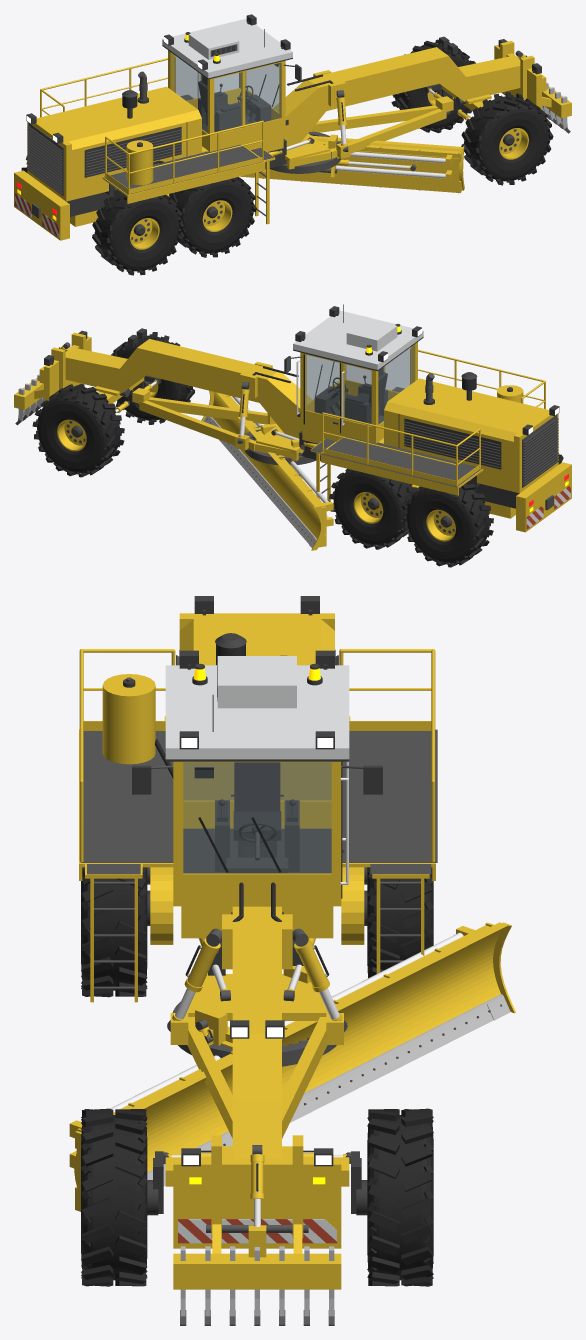
File: mining_motor_grader.glb
The picture shows the model from 3 angles, top to bottom: view 1: azimuth 30°, elevation 25°; view 2: azimuth 150°, elevation 25°; view 3: azimuth 270°, elevation 25°; orthographic projection. The views are drawn at different scales.
Visible parts, largest first — view 1: rear_frame, cab, front_frame_rotate, wheel_front_right_spin, moldboard_slide, wheel_tandem_right_rear_spin, wheel_tandem_right_front_spin, drawbar_tilt, wheel_front_left_spin, scarifier_tilt, circle_rotate; view 2: rear_frame, cab, front_frame_rotate, wheel_front_left_spin, wheel_tandem_left_rear_spin, moldboard_slide, wheel_tandem_left_front_spin, drawbar_tilt, wheel_front_right_spin, scarifier_tilt, circle_rotate; view 3: cab, rear_frame, front_frame_rotate, moldboard_slide, wheel_front_right_spin, wheel_front_left_spin, scarifier_tilt, drawbar_tilt, wheel_tandem_right_front_spin, wheel_tandem_left_front_spin, tandem_right_tilt, circle_rotate (+5 smaller).
Boxes of the visible parts, box(x1,y1,x2,y2) form: rear_frame: box(14, 56, 288, 240); cab: box(162, 14, 301, 151); front_frame_rotate: box(273, 36, 541, 146); wheel_front_right_spin: box(461, 92, 553, 185); moldboard_slide: box(240, 135, 464, 193); wheel_tandem_right_rear_spin: box(92, 189, 184, 275); wheel_tandem_right_front_spin: box(169, 177, 256, 257); drawbar_tilt: box(285, 105, 450, 169); wheel_front_left_spin: box(391, 39, 475, 133); scarifier_tilt: box(542, 75, 571, 133); circle_rotate: box(263, 131, 341, 177); rear_frame: box(297, 348, 571, 532); cab: box(284, 304, 423, 443); front_frame_rotate: box(44, 328, 311, 438); wheel_front_left_spin: box(32, 384, 124, 477); wheel_tandem_left_rear_spin: box(401, 483, 493, 567); moldboard_slide: box(201, 390, 333, 550); wheel_tandem_left_front_spin: box(329, 468, 417, 549); drawbar_tilt: box(135, 397, 300, 461); wheel_front_right_spin: box(111, 332, 194, 424); scarifier_tilt: box(14, 366, 43, 425); circle_rotate: box(244, 413, 316, 478); cab: box(132, 650, 382, 938); rear_frame: box(79, 596, 437, 1002); front_frame_rotate: box(173, 882, 341, 1248); moldboard_slide: box(69, 922, 515, 1211); wheel_front_right_spin: box(81, 1108, 147, 1286); wheel_front_left_spin: box(367, 1108, 433, 1286); scarifier_tilt: box(173, 1224, 341, 1325); drawbar_tilt: box(170, 974, 343, 1138); wheel_tandem_right_front_spin: box(81, 867, 147, 997); wheel_tandem_left_front_spin: box(367, 867, 433, 978); tandem_right_tilt: box(147, 867, 173, 944); circle_rotate: box(172, 966, 341, 1066).
Size of the model in its own units: 13.49 by 4.63 by 5.05.
Materials: 18 (18 with a texture image).
